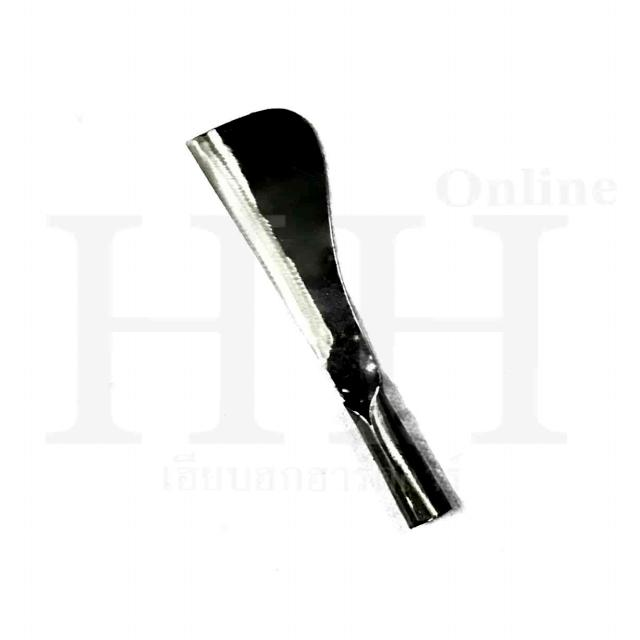eto: (175, 100, 468, 537)
